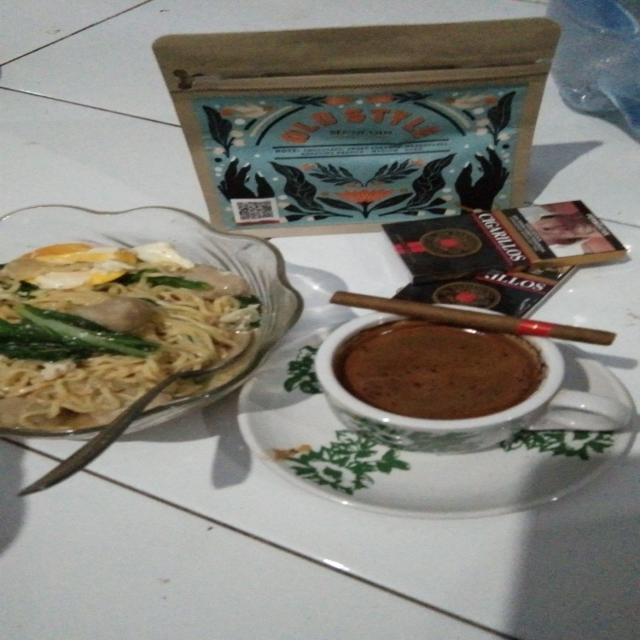rokok: (332, 286, 624, 352)
